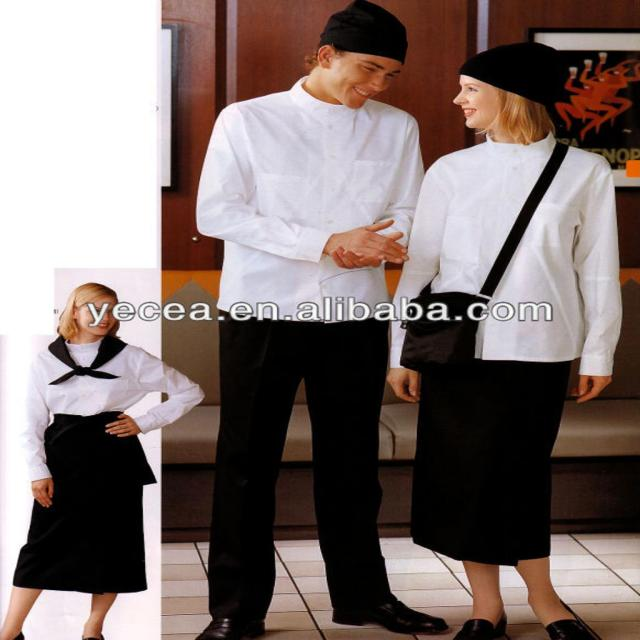nomask: (332, 41, 396, 110), (450, 65, 506, 129), (79, 299, 117, 334)
